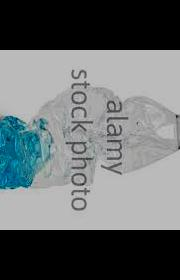Plastic: (0, 85, 179, 196)
